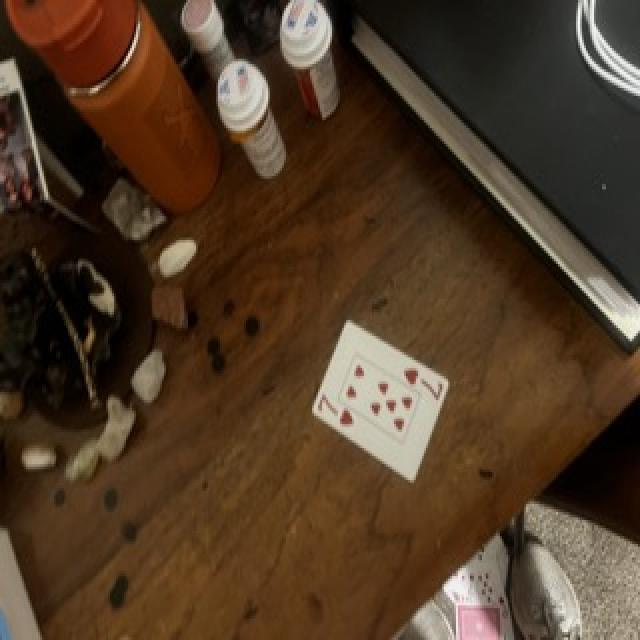7 of hearts: (312, 320, 449, 482)
